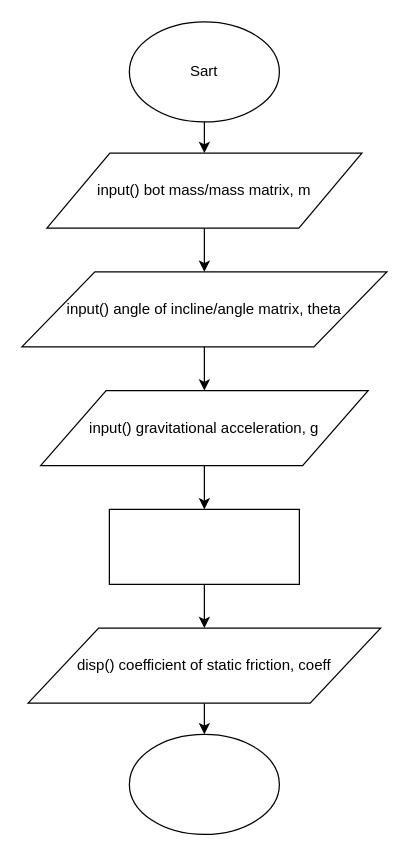
Some shapes in this 409 by 856 pixel diagram are drawn without their labels. The centre of each missing label's shape, as x and y in pixels:
"Calculate coefficient of static friction, coeff" belongs at [203,546].
"End" belongs at [203,783].
